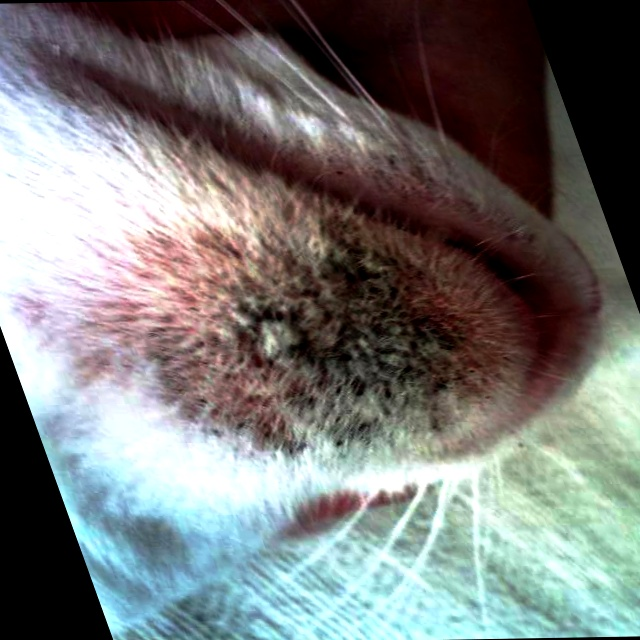acne: (188, 243, 512, 458)
